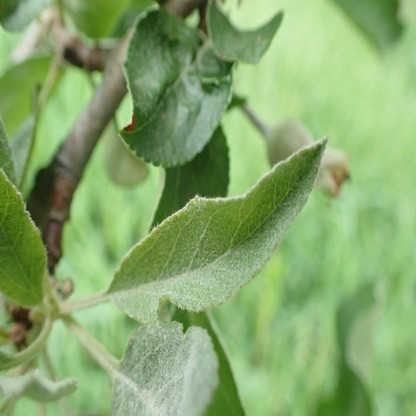frogeye_leaf_spot: (123, 113, 135, 130)
powdery_mildew: (108, 134, 330, 322), (111, 323, 220, 416), (223, 36, 269, 62)
